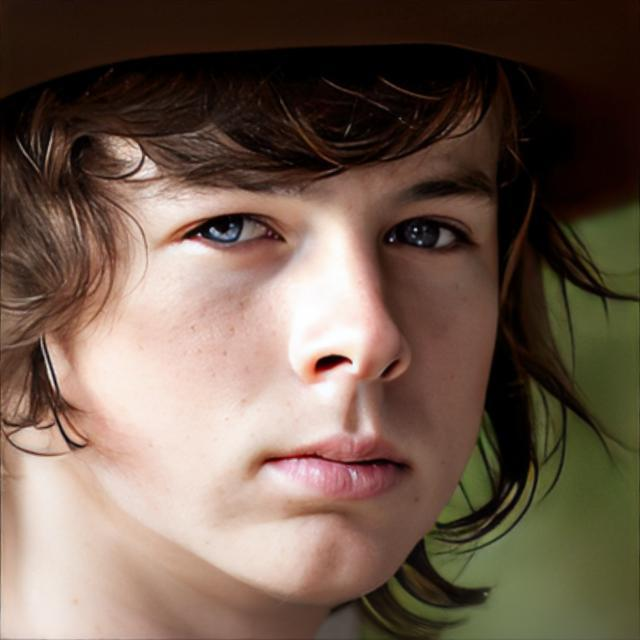neutral: (90, 53, 502, 613)
